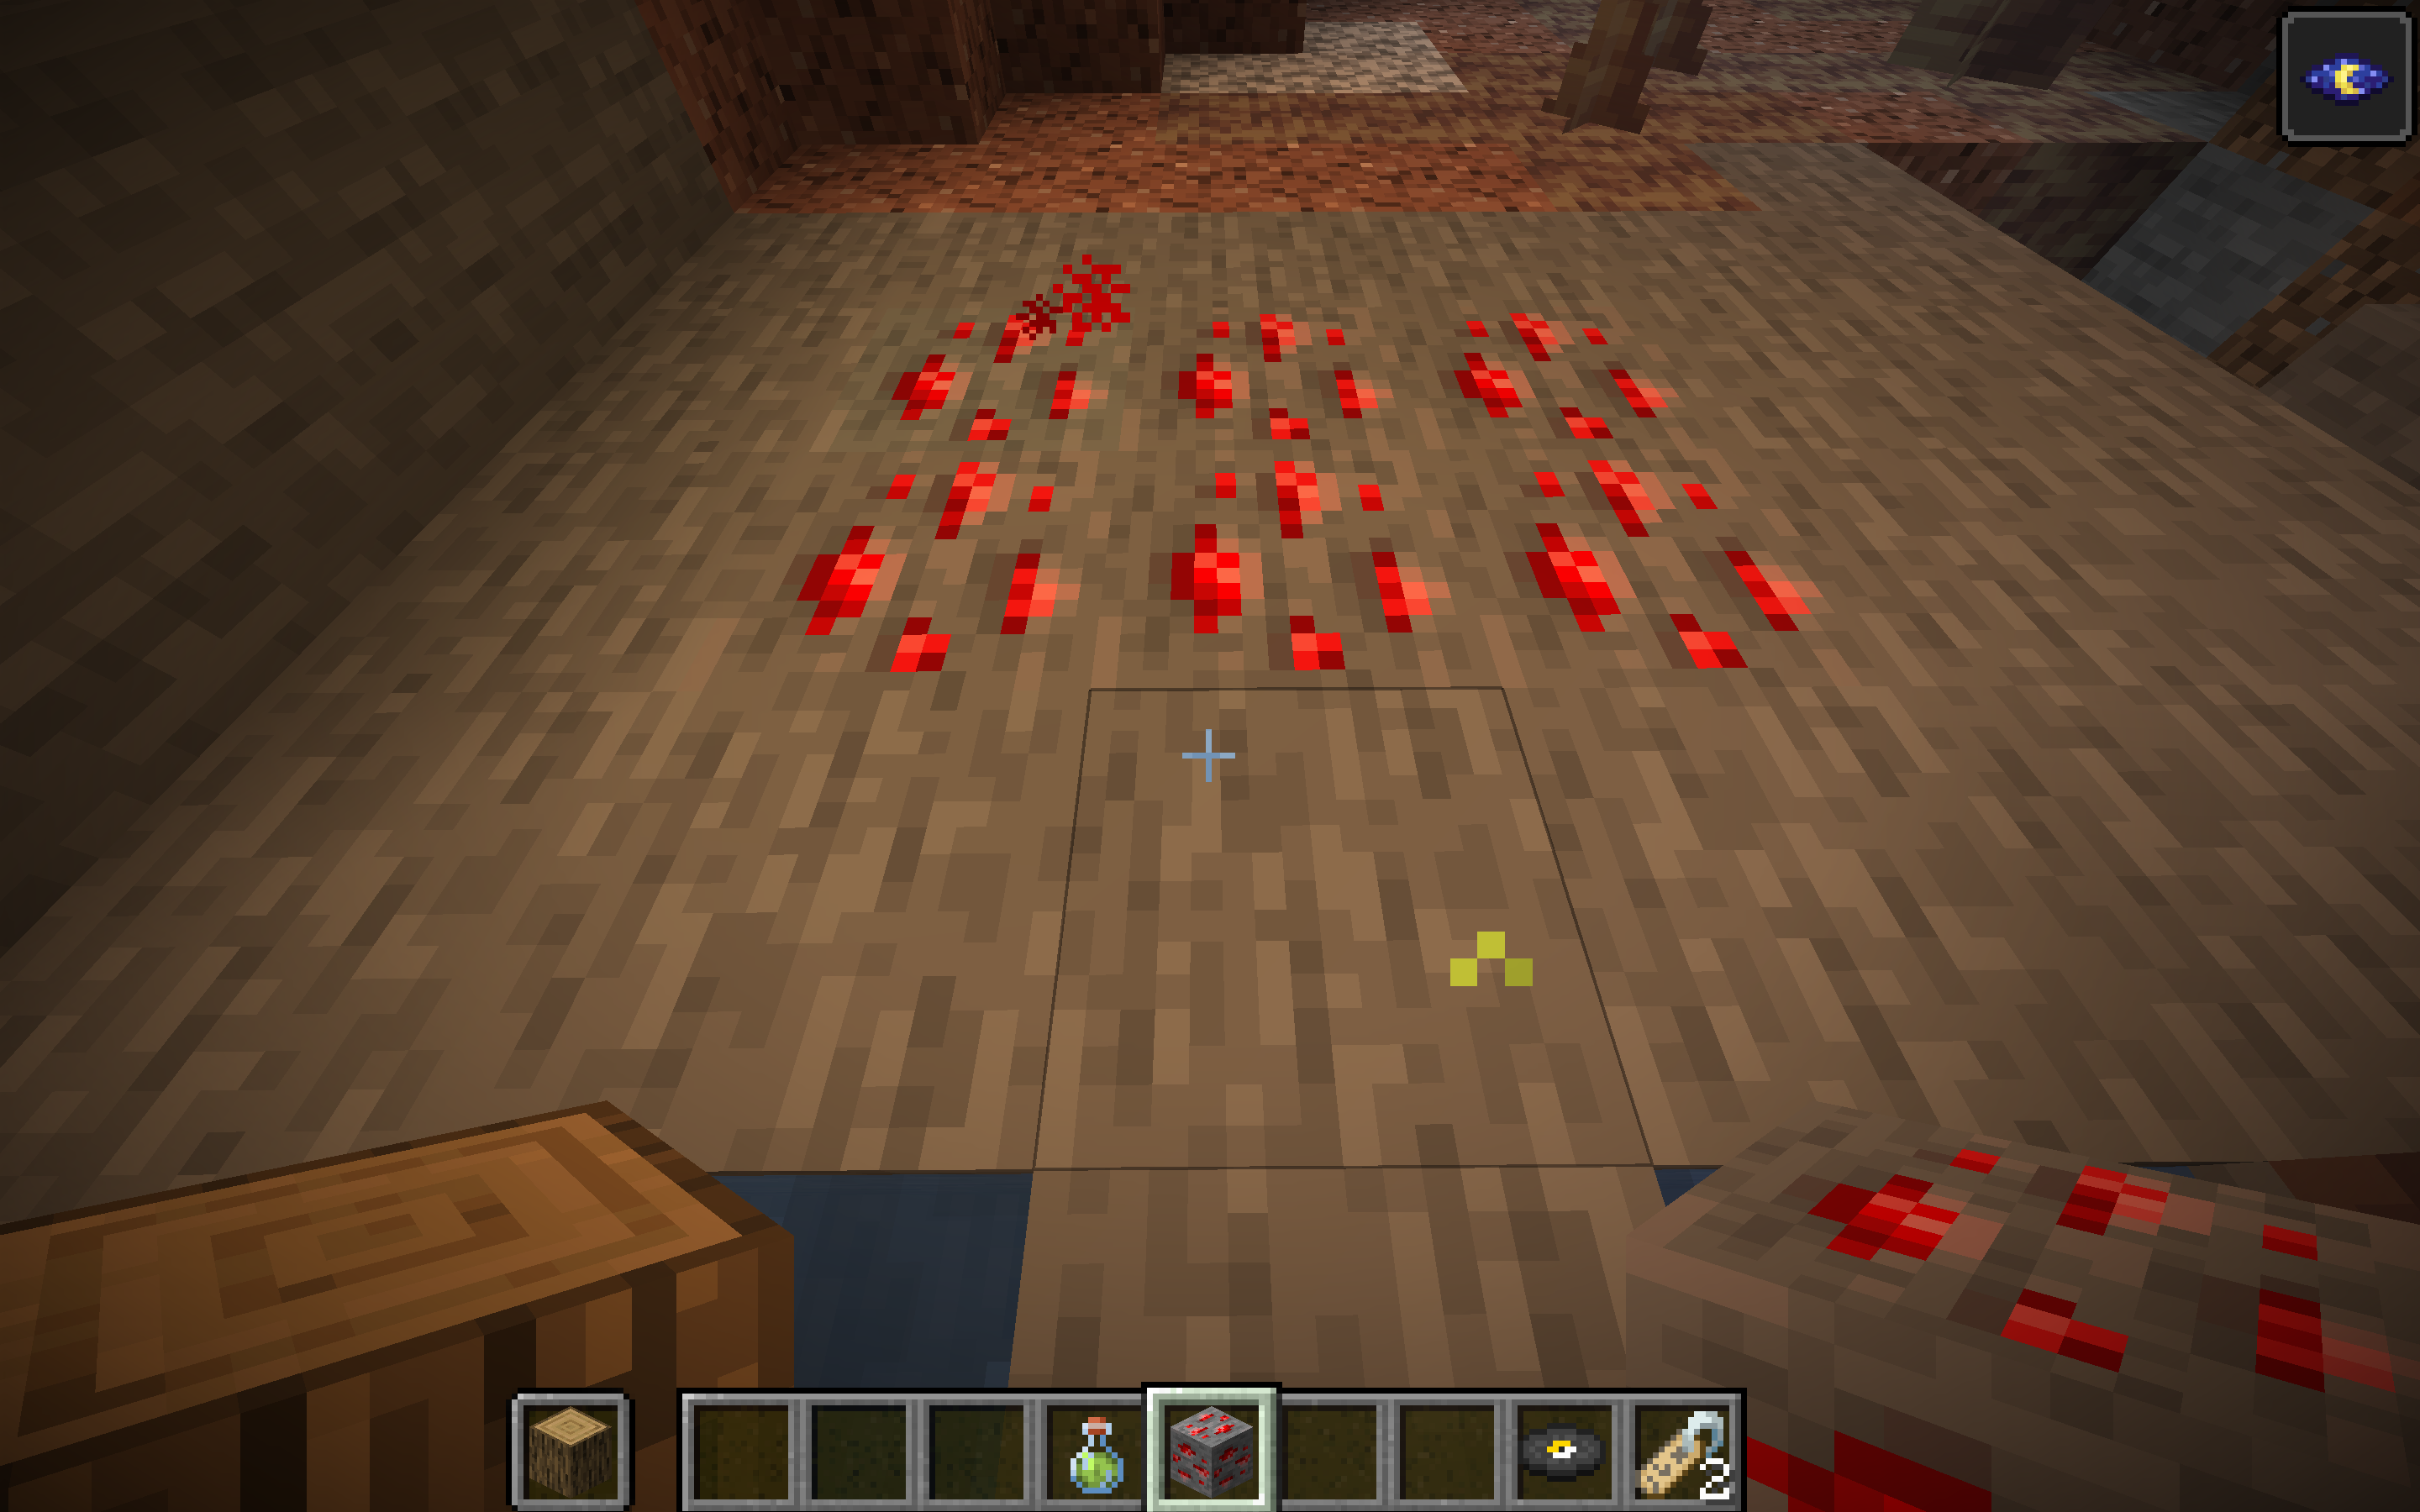redstone: (659, 171, 2305, 1078)
